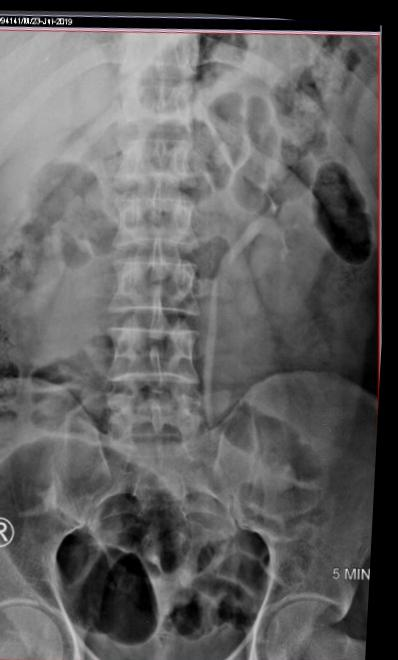vertebrae: (108, 127, 206, 200)
